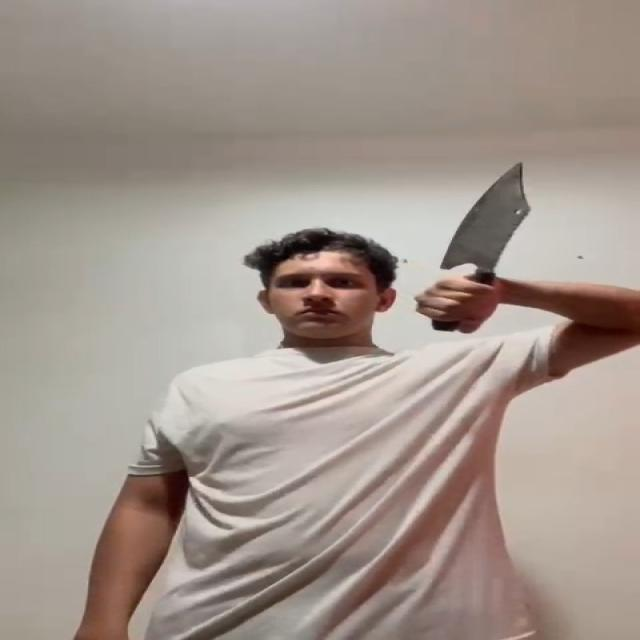knife: (442, 162, 534, 271)
